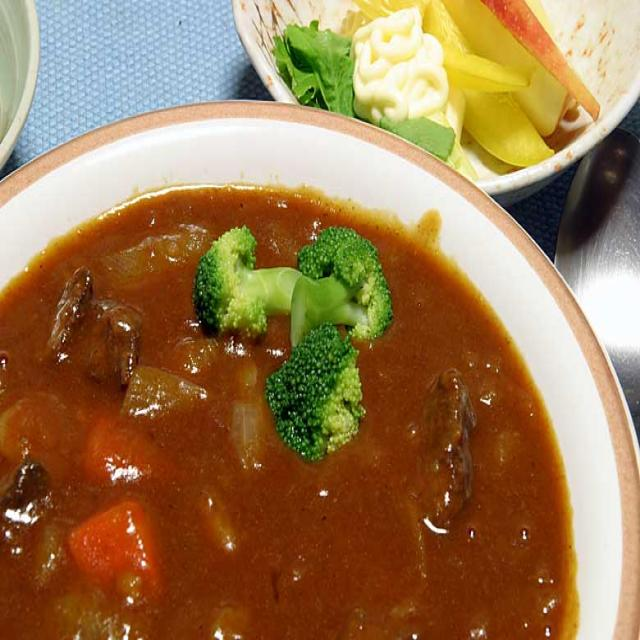汤锅炖物: (0, 95, 639, 640)
